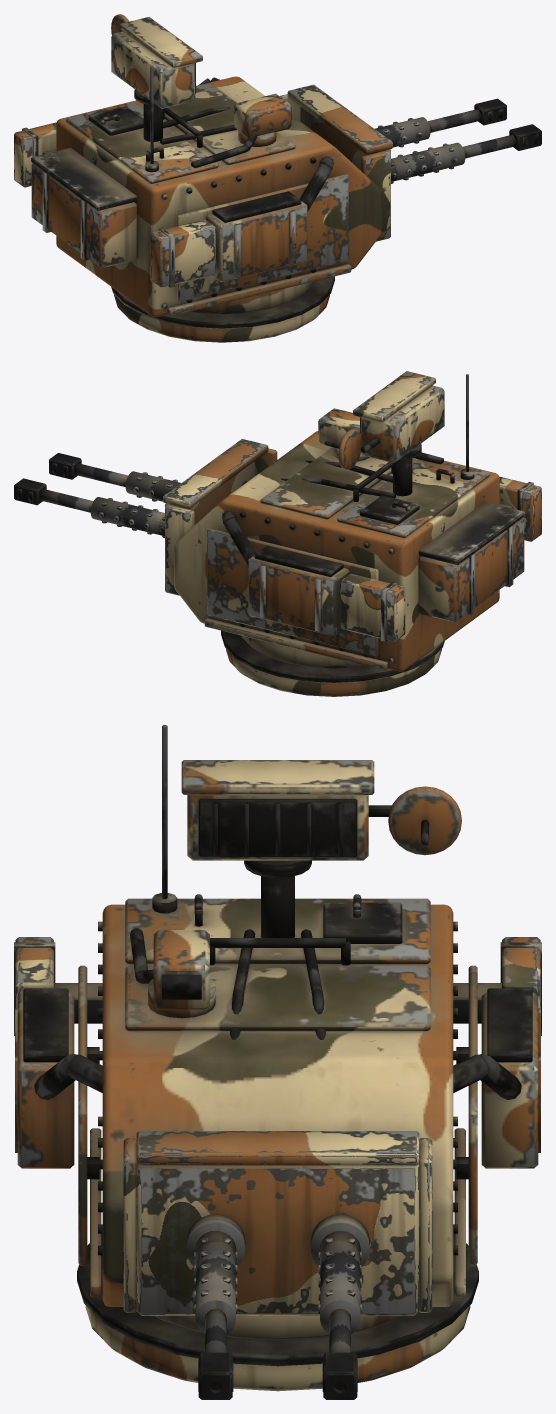
File: turret_grach_evo.glb
3 views of the same model, one above another, from view 1: azimuth 30°, elevation 25°; view 2: azimuth 150°, elevation 25°; view 3: azimuth 270°, elevation 25° (orthographic). The views are drawn at different scales.
Visible parts, largest first — view 1: turret_light_evo, guns, pods; view 2: turret_light_evo, guns, pods; view 3: turret_light_evo, guns, pods.
Part boxes in pixels (box(x1,y1,x2,y2)): turret_light_evo: box(31, 14, 381, 342); guns: box(280, 84, 541, 241); pods: box(14, 122, 215, 287); turret_light_evo: box(174, 371, 524, 696); guns: box(14, 439, 277, 595); pods: box(340, 476, 541, 641); turret_light_evo: box(15, 725, 540, 1391); guns: box(123, 1131, 432, 1399); pods: box(14, 937, 541, 1035).
Size of the model in its own units: 1.86 by 1.09 by 1.05.
Materials: 3 (3 with a texture image).
